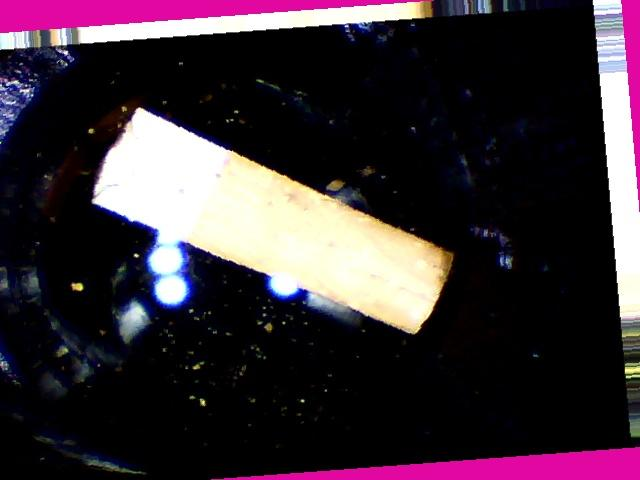megot: (76, 69, 467, 365)
